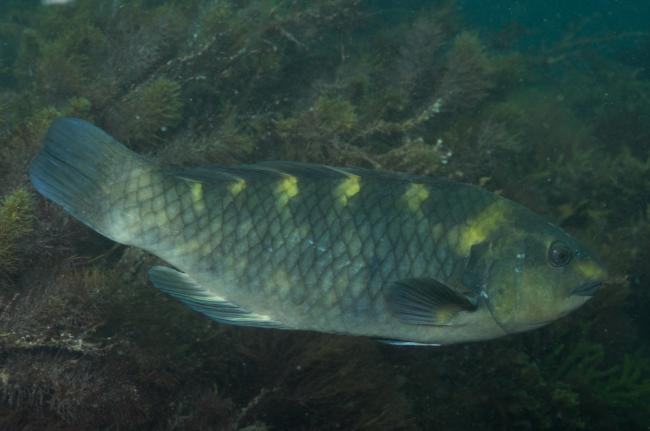fish: (30, 116, 595, 349)
